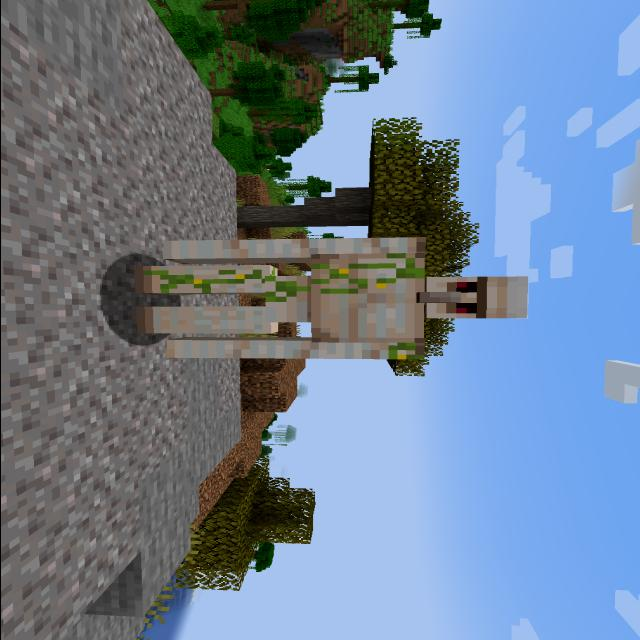iron golem: (114, 230, 542, 370)
